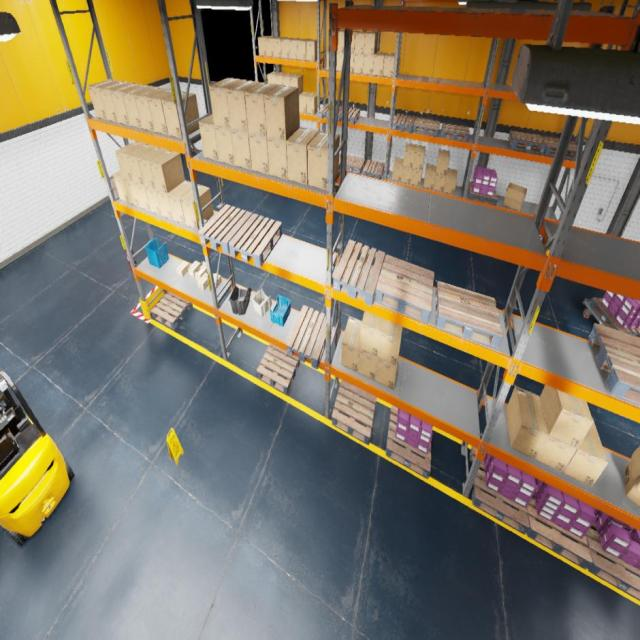box: (540, 384, 593, 448), (536, 396, 576, 473), (506, 386, 548, 459), (564, 419, 608, 487), (264, 85, 300, 141), (308, 132, 340, 190), (286, 128, 318, 186), (245, 82, 279, 136), (226, 80, 261, 132), (208, 78, 244, 128), (162, 91, 200, 138), (148, 89, 182, 135), (180, 184, 214, 230), (134, 87, 168, 132), (150, 150, 185, 193), (122, 84, 156, 128), (110, 83, 143, 125), (99, 81, 132, 123), (88, 79, 121, 120), (126, 144, 157, 186), (138, 147, 168, 189), (116, 141, 146, 181), (341, 316, 362, 372), (378, 318, 402, 366), (168, 180, 192, 224), (360, 311, 382, 358), (624, 446, 640, 507), (199, 114, 219, 161), (267, 137, 288, 180), (375, 353, 399, 390), (248, 134, 269, 174), (231, 130, 252, 170), (214, 126, 235, 166), (503, 183, 527, 211), (357, 350, 378, 381), (112, 170, 130, 203), (156, 189, 173, 220), (145, 186, 162, 215), (123, 178, 140, 207), (134, 182, 150, 211), (444, 168, 457, 195), (436, 149, 449, 175), (412, 144, 425, 170), (373, 52, 387, 76), (423, 164, 436, 189), (354, 31, 368, 54), (364, 32, 378, 54), (410, 164, 423, 187), (403, 143, 415, 167), (383, 53, 395, 77), (297, 38, 310, 60), (289, 38, 302, 59), (281, 37, 294, 58), (265, 36, 278, 57), (434, 170, 446, 192), (392, 158, 403, 182), (306, 92, 318, 114), (306, 40, 318, 62), (290, 74, 303, 94), (273, 37, 286, 57), (258, 35, 270, 56), (299, 91, 310, 112), (363, 54, 374, 75), (195, 262, 207, 280), (354, 53, 364, 74), (401, 166, 412, 184), (177, 261, 190, 276), (188, 261, 201, 276), (350, 31, 358, 53), (337, 30, 345, 52), (274, 72, 287, 85), (267, 71, 280, 84), (198, 274, 208, 290), (282, 74, 295, 85), (336, 52, 343, 72), (213, 273, 221, 288), (350, 54, 354, 73), (327, 50, 329, 70)
forklift: (0, 368, 74, 546)
pallets: (470, 446, 529, 534), (526, 494, 592, 568), (435, 281, 503, 349), (584, 522, 640, 601), (588, 324, 640, 406), (376, 254, 434, 324), (385, 405, 432, 479), (333, 240, 385, 306), (286, 305, 332, 370), (228, 214, 282, 268), (332, 380, 376, 446), (199, 205, 252, 255), (257, 343, 300, 395), (589, 297, 640, 337), (151, 292, 193, 330), (540, 136, 578, 160), (508, 131, 546, 154), (468, 181, 498, 205), (412, 117, 440, 137), (441, 123, 470, 142), (392, 113, 416, 133), (363, 159, 385, 180), (320, 103, 342, 120), (337, 108, 360, 124), (346, 156, 365, 174), (339, 154, 341, 170)
